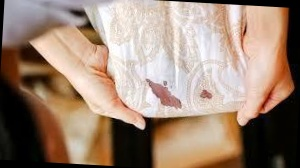blood: (148, 80, 182, 110), (200, 90, 212, 99)
